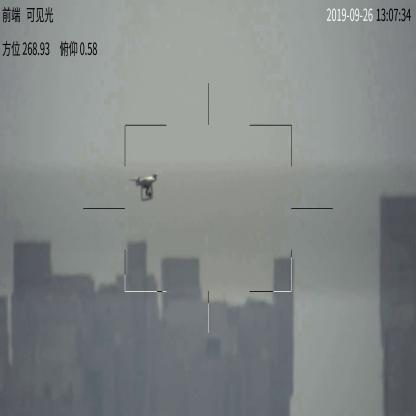uav: (129, 175, 163, 207)
